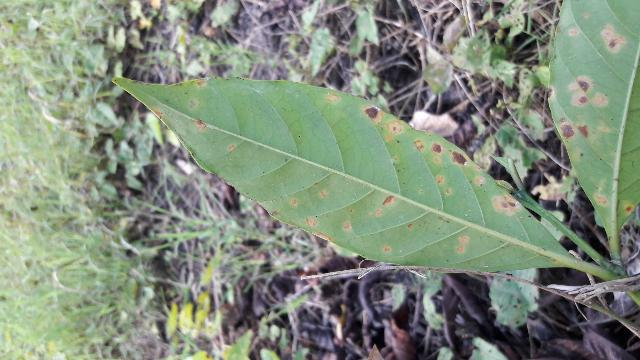rust_level_2: (115, 76, 571, 271)
